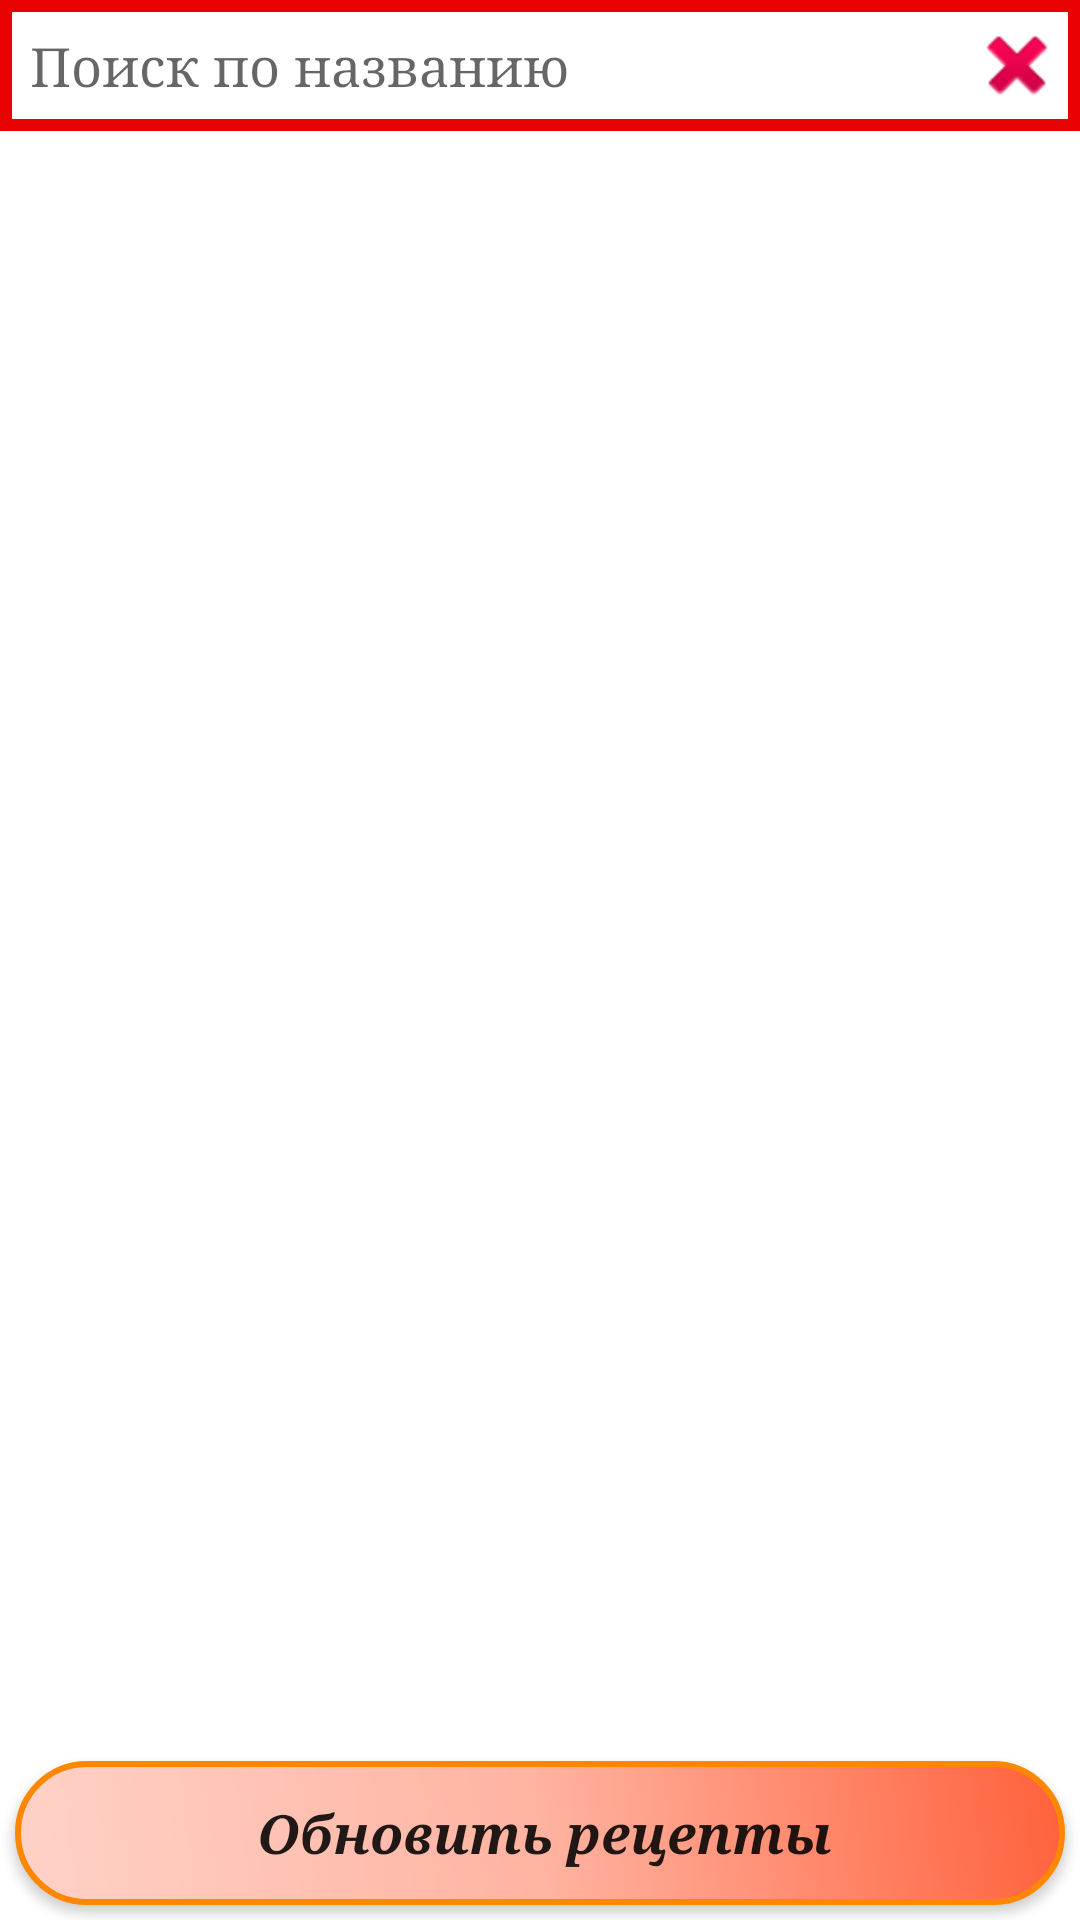

Where to tap for icons on this 1080px x 1920px app screen, as (x=x, y=y):
delete: (x=1017, y=65)
